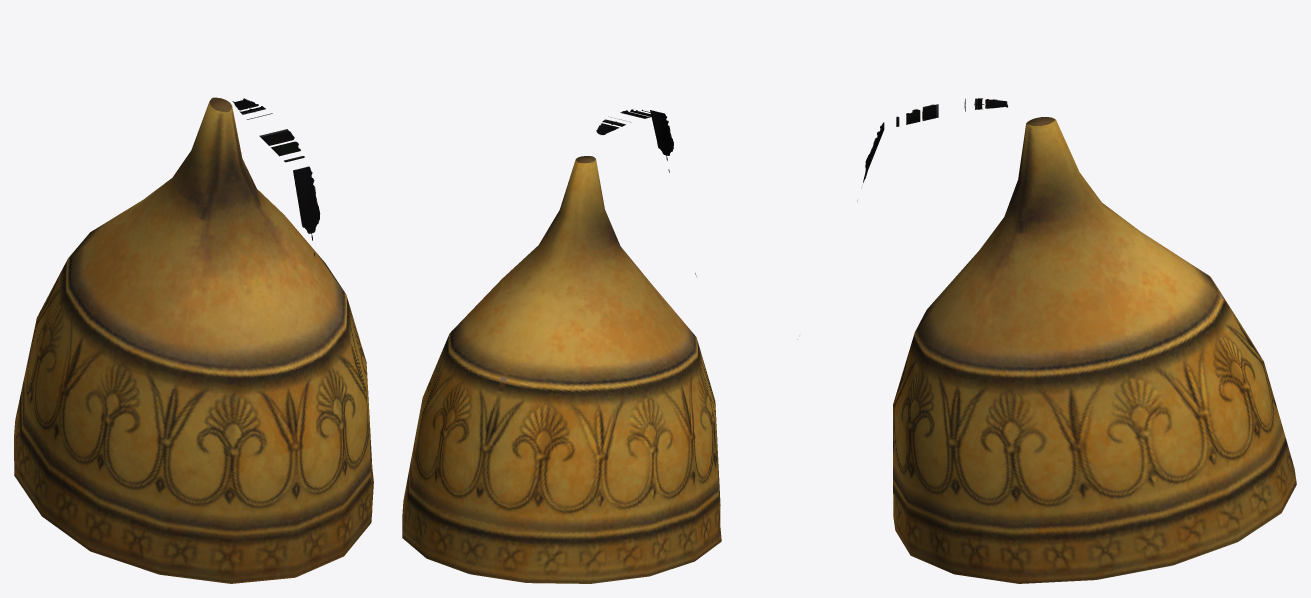
The model's file is helm_pers_conical_a1.glb.
The picture shows the model from 3 angles, left to right: view 1: azimuth 30°, elevation 25°; view 2: azimuth 150°, elevation 25°; view 3: azimuth 270°, elevation 25°; orthographic projection. The views are drawn at different scales.
Parts seen in each view (by area): view 1: helm_pers_conical_a1_part0, helm_pers_conical_a1_part1; view 2: helm_pers_conical_a1_part0, helm_pers_conical_a1_part1; view 3: helm_pers_conical_a1_part0, helm_pers_conical_a1_part1.
Boxes of the visible parts, box(x1,y1,x2,y2) form: helm_pers_conical_a1_part0: box(14, 97, 373, 583); helm_pers_conical_a1_part1: box(232, 98, 345, 421); helm_pers_conical_a1_part0: box(402, 156, 721, 583); helm_pers_conical_a1_part1: box(596, 109, 696, 276); helm_pers_conical_a1_part0: box(893, 117, 1296, 583); helm_pers_conical_a1_part1: box(797, 98, 1008, 339).
Bounding box in the file's own units: 0.4637 × 0.7756 × 0.7441.
Materials: 2 (2 with a texture image).
